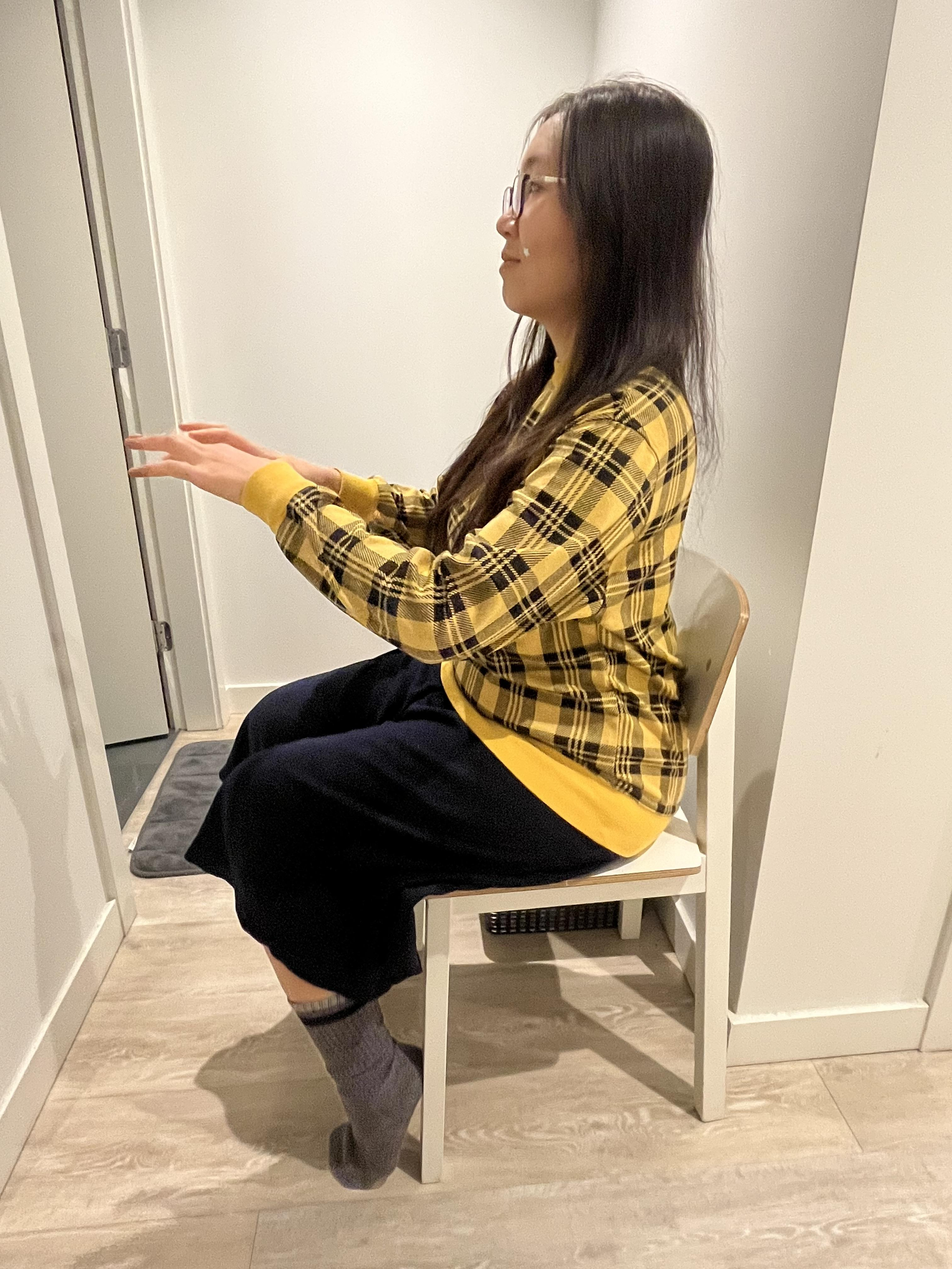GoodPosture: (125, 84, 714, 1188)
